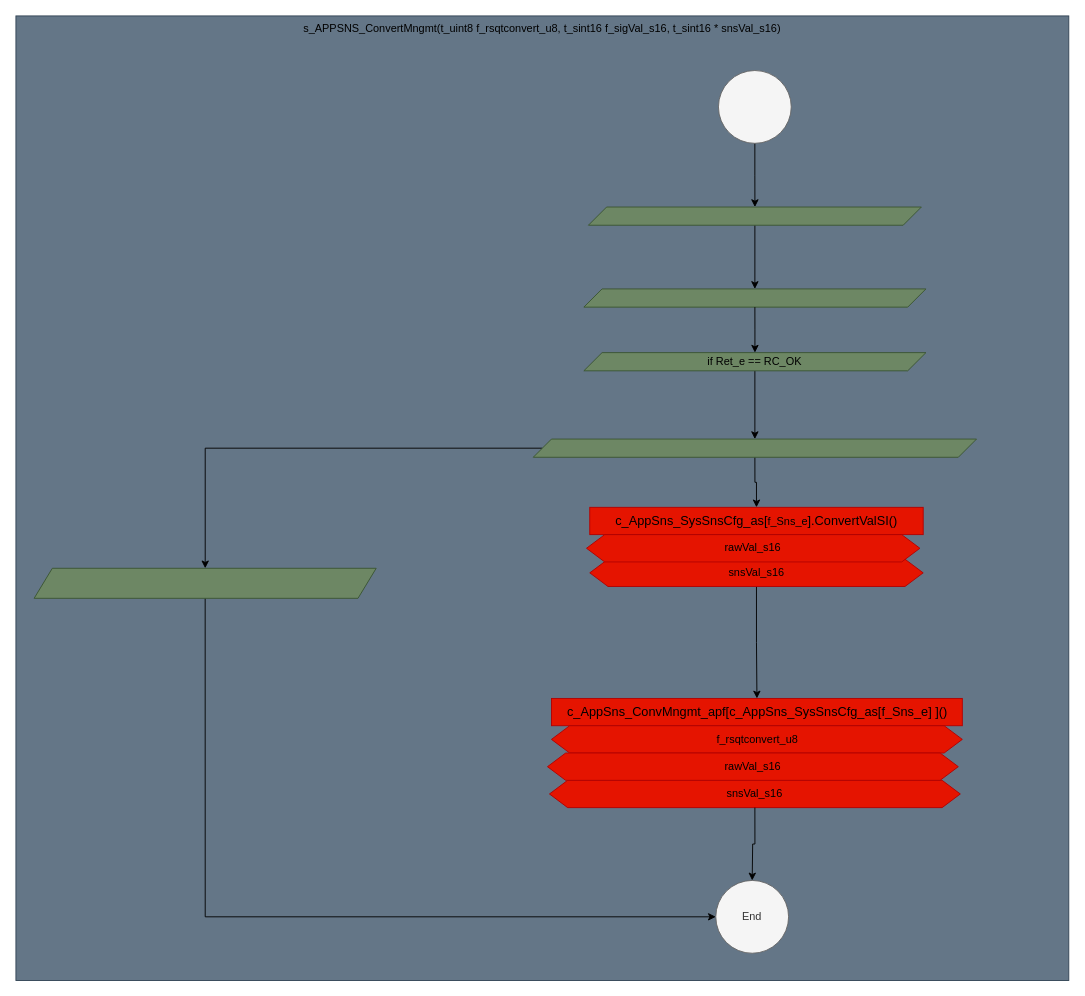
Image size: 1085x996. Some labels were removed from this diagram. The shapes that lost their labels are listed below. From the top down, each one's box as (x1, y1, x2, y2) in pixels, then its label:
(718, 70, 791, 143): Start
(587, 206, 921, 225): if *f_snsval_s16 == PTR_NULL -> exitCode
(583, 288, 926, 307): if f_rsqtconvert_u8> t_eAPPSNS_TYPEUNITY_NB -> exitCode
(532, 438, 977, 457): c_AppSns_SysSnsCfg_as [ f_Sns_e ].ConvertValSI() != NULL_FUNCTION
(33, 567, 376, 598): *snsVal_S16 = rawVal_s16
